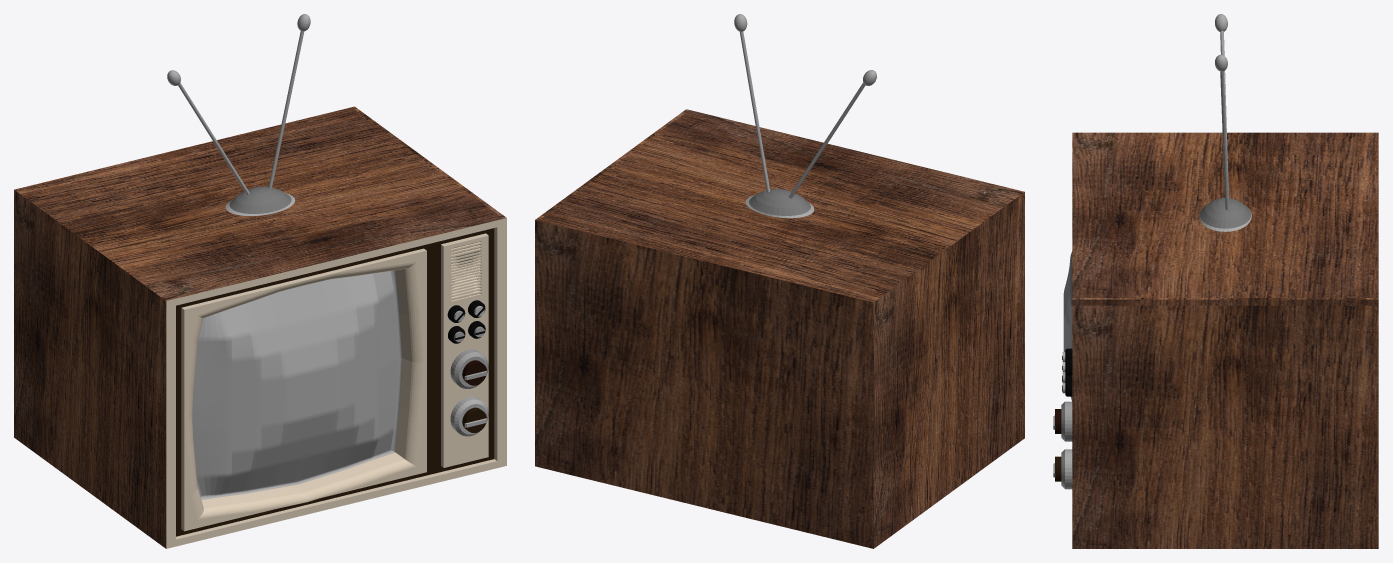
Rendered from 80s_retro_television.glb.
The picture shows the model from 3 angles, left to right: view 1: azimuth 30°, elevation 25°; view 2: azimuth 150°, elevation 25°; view 3: azimuth 270°, elevation 25°; orthographic projection.
Parts seen in each view (by area): view 1: Object_3, Object_17, Object_2, Object_15, Object_18, Object_4, Object_6; view 2: Object_3, Object_18, Object_4; view 3: Object_3, Object_18, Object_4, Object_17, Object_6.
Boxes of the visible parts, left/top/right/bottom form: Object_3: left=14, top=106, right=506, bottom=548; Object_17: left=192, top=193, right=402, bottom=499; Object_2: left=166, top=218, right=506, bottom=548; Object_15: left=176, top=228, right=494, bottom=536; Object_18: left=178, top=31, right=488, bottom=436; Object_4: left=229, top=186, right=291, bottom=213; Object_6: left=450, top=349, right=488, bottom=388; Object_3: left=535, top=109, right=1024, bottom=548; Object_18: left=740, top=31, right=865, bottom=198; Object_4: left=749, top=189, right=810, bottom=215; Object_3: left=1072, top=132, right=1378, bottom=548; Object_18: left=1053, top=30, right=1228, bottom=489; Object_4: left=1200, top=197, right=1250, bottom=228; Object_17: left=1063, top=206, right=1251, bottom=401; Object_6: left=1053, top=401, right=1072, bottom=441.
Size of the model in its own units: 1.14 by 1.37 by 0.9356.
Materials: 15 (1 with a texture image).
